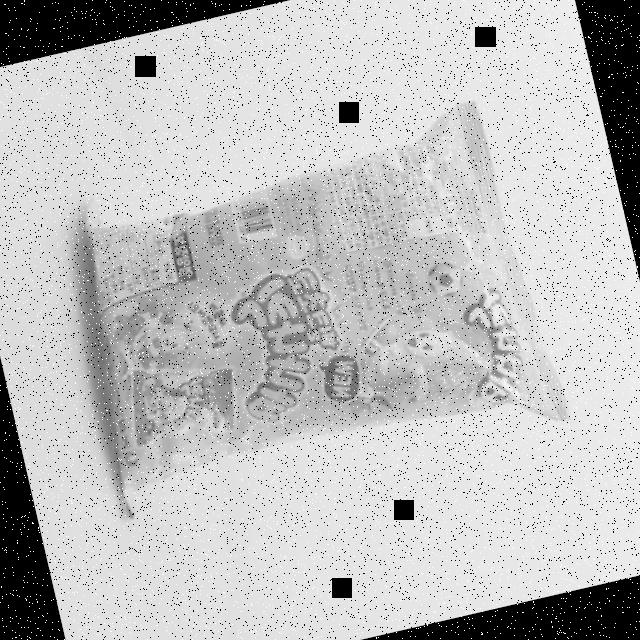snack_bag: (41, 76, 586, 532)
